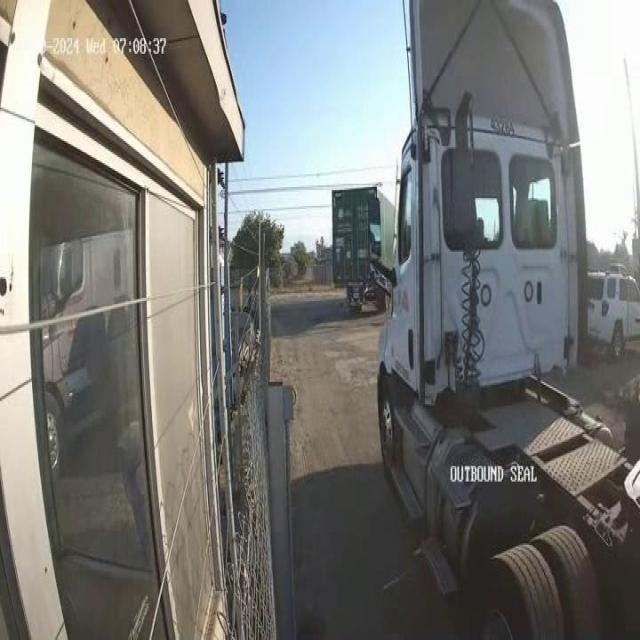TRUCK_OUT: (374, 1, 638, 636)
